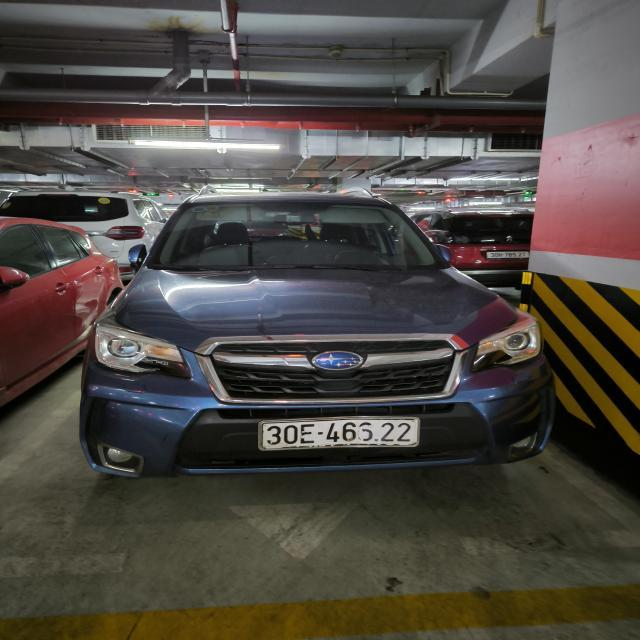license: (257, 415, 420, 451)
